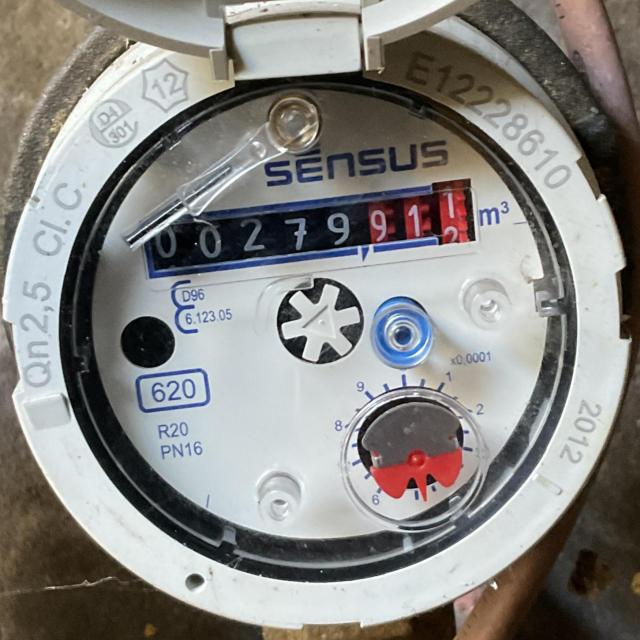gaz_meter: (3, 0, 628, 632)
indication: (142, 175, 473, 282)
